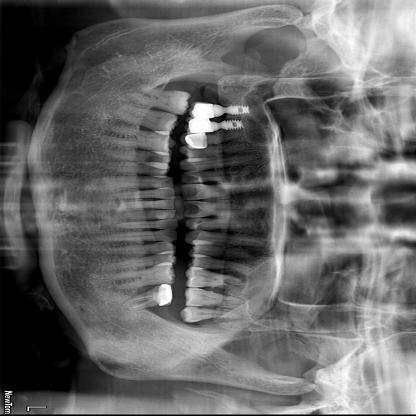Bicon: (221, 105, 255, 118), (218, 120, 251, 133)
